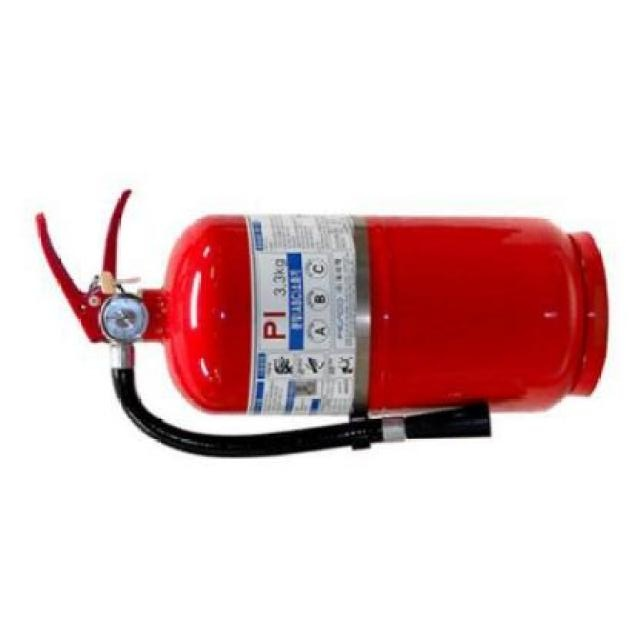fire extinguisher: (35, 188, 610, 457)
